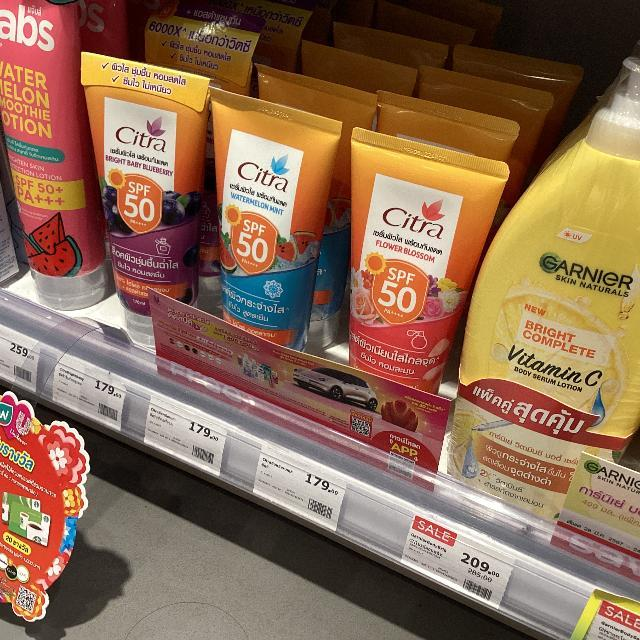Squeeze Tube: (67, 20, 490, 418)
